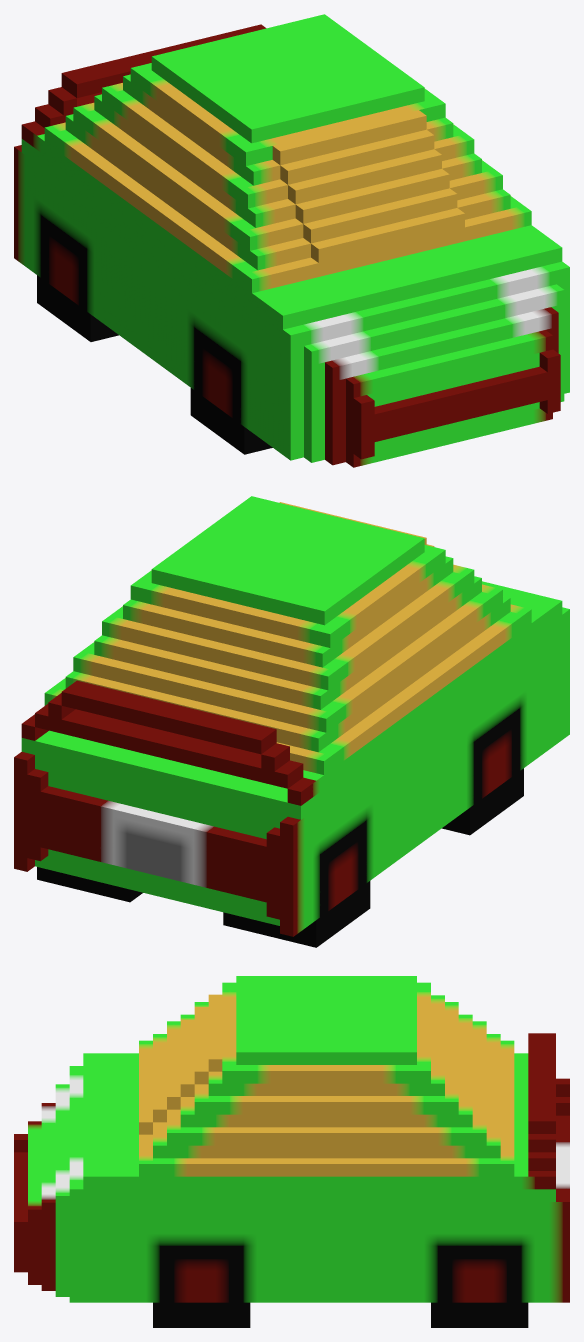
Rendered from Car_15.fbx.
3 views of the same model, one above another, from view 1: azimuth 30°, elevation 25°; view 2: azimuth 150°, elevation 25°; view 3: azimuth 270°, elevation 25° (orthographic). The views are drawn at different scales.
Visible parts, largest first — view 1: Car_15; view 2: Car_15; view 3: Car_15.
Part boxes in pixels (left/top/right/bottom): Car_15: left=14, top=14, right=569, bottom=467; Car_15: left=14, top=496, right=569, bottom=947; Car_15: left=14, top=976, right=569, bottom=1327.
Size of the model in its own units: 21 by 20 by 40.
1 material, 1 textured.
